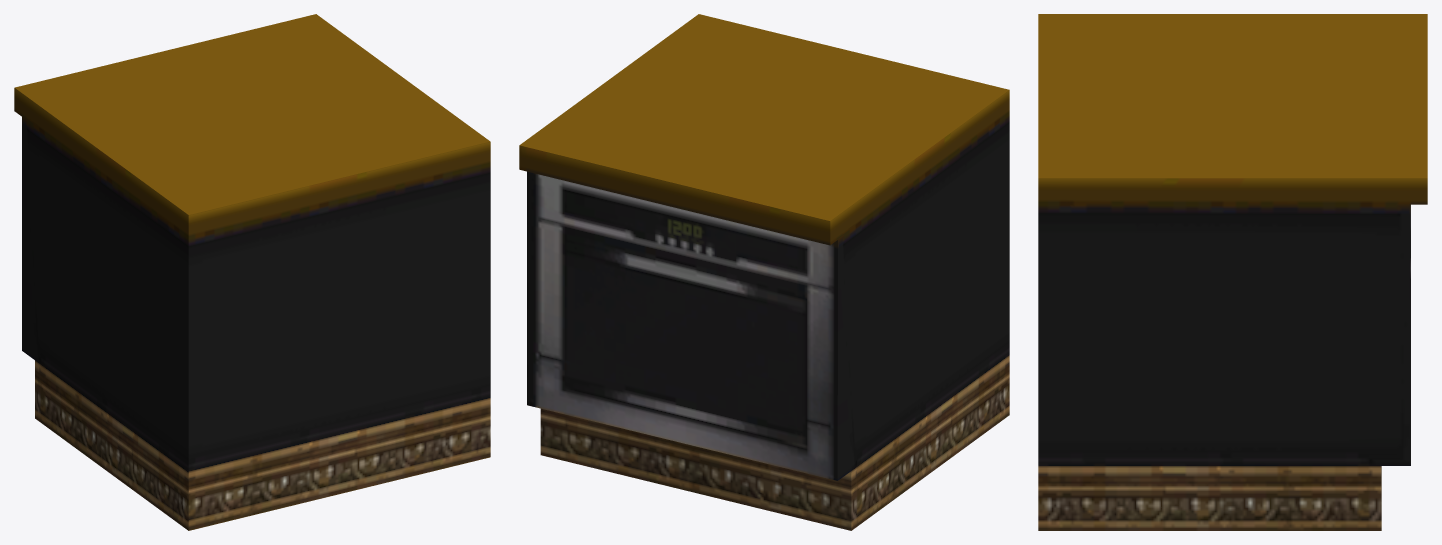
File: furni_0200323_03.FBX
3 renders of one model, left to right at view 1: azimuth 30°, elevation 25°; view 2: azimuth 150°, elevation 25°; view 3: azimuth 270°, elevation 25°, orthographic. The views are drawn at different scales.
Visible parts, largest first — view 1: furni_0200323_03; view 2: furni_0200323_03; view 3: furni_0200323_03.
Part boxes in pixels (x1=…): furni_0200323_03: x1=14, y1=14, x2=490, y2=530; furni_0200323_03: x1=519, y1=14, x2=1009, y2=530; furni_0200323_03: x1=1038, y1=14, x2=1427, y2=530.
Bounding box in the file's own units: 80 × 80 × 80.
